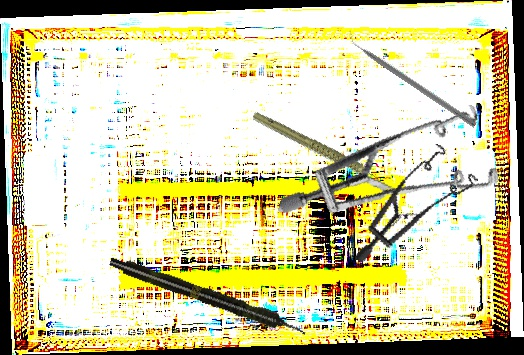Chopper: (343, 28, 482, 128)
Handpiece: (107, 252, 309, 342), (250, 87, 385, 213)
Speculum: (277, 62, 516, 267), (354, 130, 485, 289)
